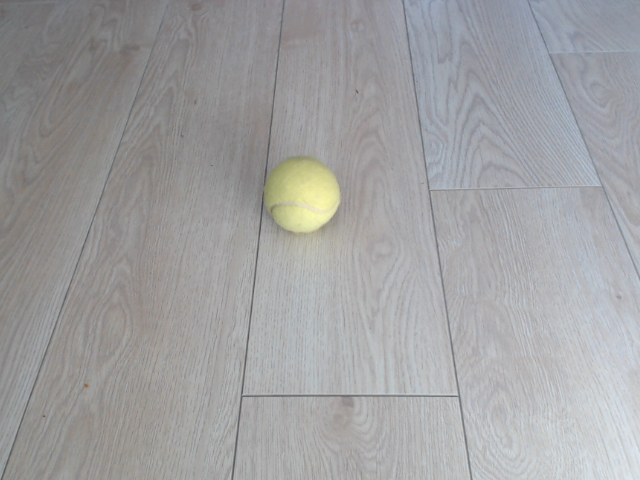ball: (258, 152, 345, 237)
